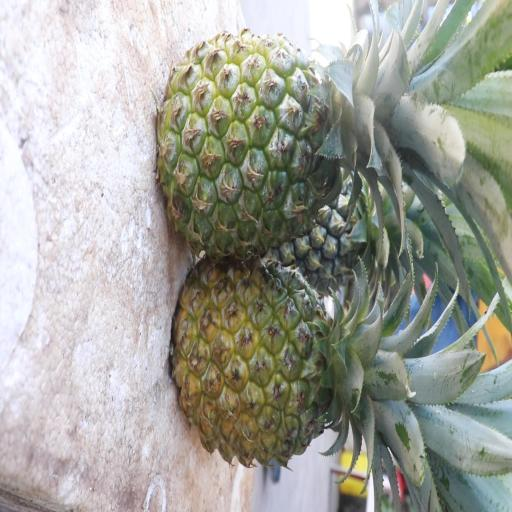------------------------------: (160, 32, 391, 264)
Pineapple - v8 v1: (176, 258, 382, 487)
